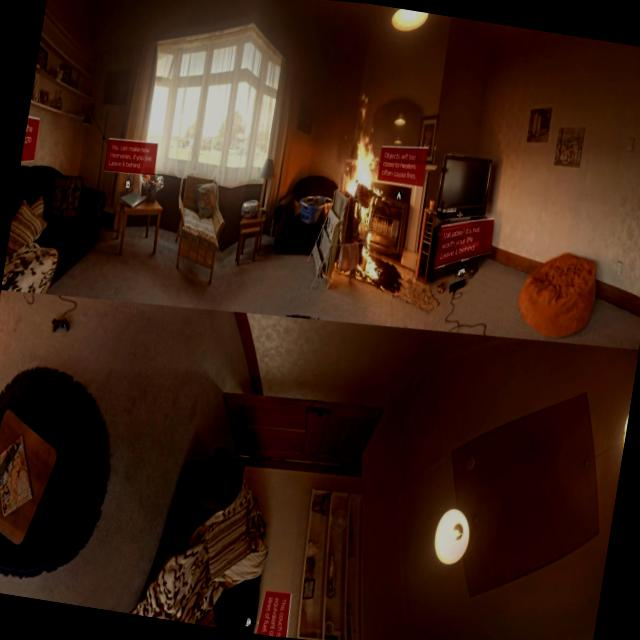fire: (316, 108, 398, 283)
